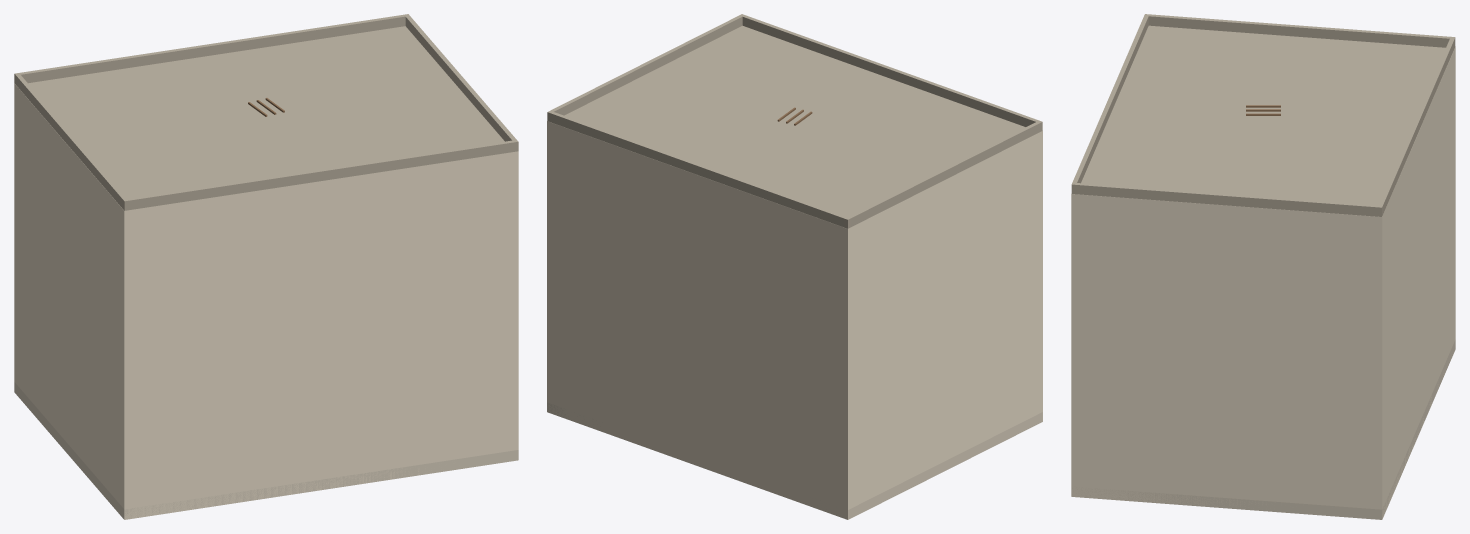
Rendered from cop_art_deco_carioca_05__way_134013759.fbx.
The picture shows the model from 3 angles, left to right: view 1: azimuth 30°, elevation 25°; view 2: azimuth 150°, elevation 25°; view 3: azimuth 270°, elevation 25°; orthographic projection. The views are drawn at different scales.
Parts seen in each view (by area): view 1: cop_art_deco_carioca_05__way_134013759_wall, cop_art_deco_carioca_05__way_134013759_roof, cop_art_deco_carioca_05__way_134013759_stone; view 2: cop_art_deco_carioca_05__way_134013759_wall, cop_art_deco_carioca_05__way_134013759_roof, cop_art_deco_carioca_05__way_134013759_stone; view 3: cop_art_deco_carioca_05__way_134013759_wall, cop_art_deco_carioca_05__way_134013759_roof, cop_art_deco_carioca_05__way_134013759_stone.
Boxes of the visible parts, x1,y1,x2,y2 form: cop_art_deco_carioca_05__way_134013759_wall: [14, 83, 518, 519]; cop_art_deco_carioca_05__way_134013759_roof: [14, 14, 518, 210]; cop_art_deco_carioca_05__way_134013759_stone: [14, 382, 518, 519]; cop_art_deco_carioca_05__way_134013759_wall: [547, 121, 1042, 519]; cop_art_deco_carioca_05__way_134013759_roof: [547, 14, 1042, 228]; cop_art_deco_carioca_05__way_134013759_stone: [547, 402, 1042, 519]; cop_art_deco_carioca_05__way_134013759_wall: [1071, 47, 1455, 519]; cop_art_deco_carioca_05__way_134013759_roof: [1071, 14, 1455, 216]; cop_art_deco_carioca_05__way_134013759_stone: [1072, 339, 1455, 519].
Bounding box in the file's own units: 3021 × 2277 × 2531.
